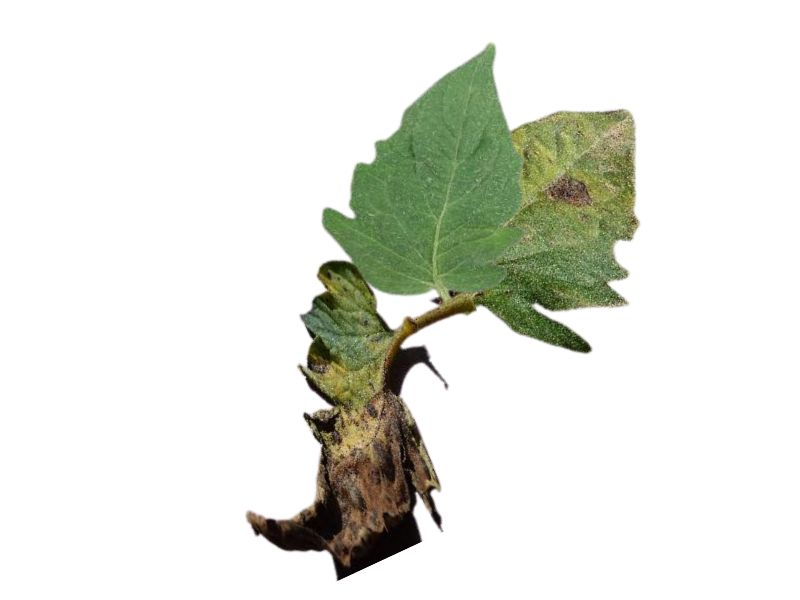Early_blight: (241, 353, 442, 568), (547, 171, 594, 207)
